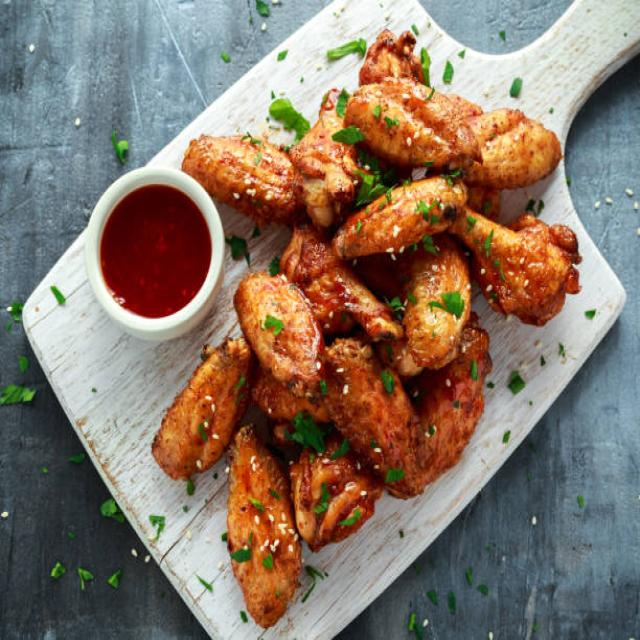RED CHUTNEY: (98, 188, 204, 309)
